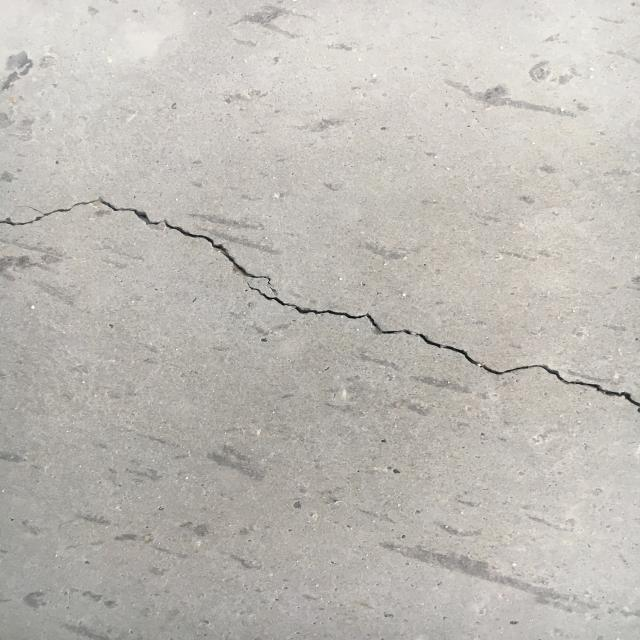Rachadura: (0, 191, 640, 415)
